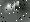person: (12, 3, 19, 15), (7, 4, 13, 17)
